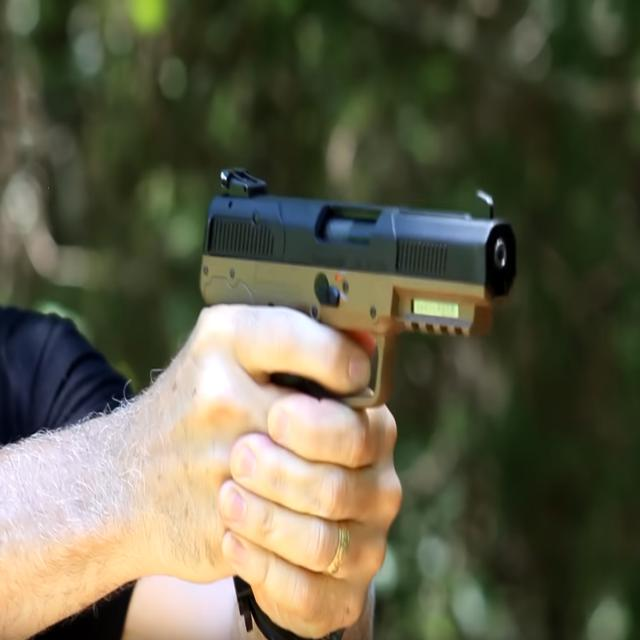gun: (199, 163, 518, 411)
